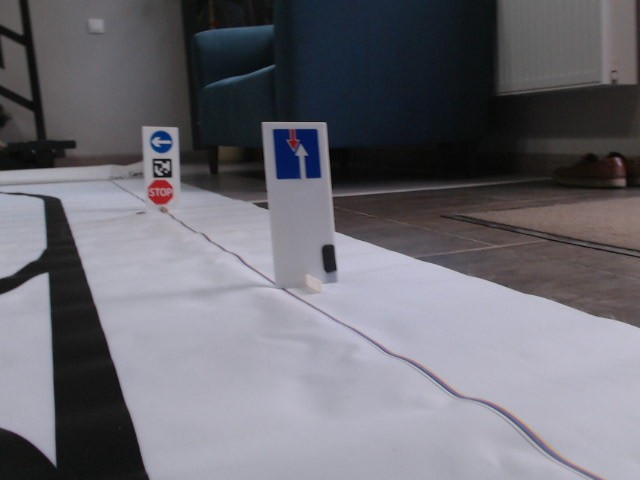Stop: (146, 179, 174, 205)
priority_movement: (270, 127, 323, 181)
